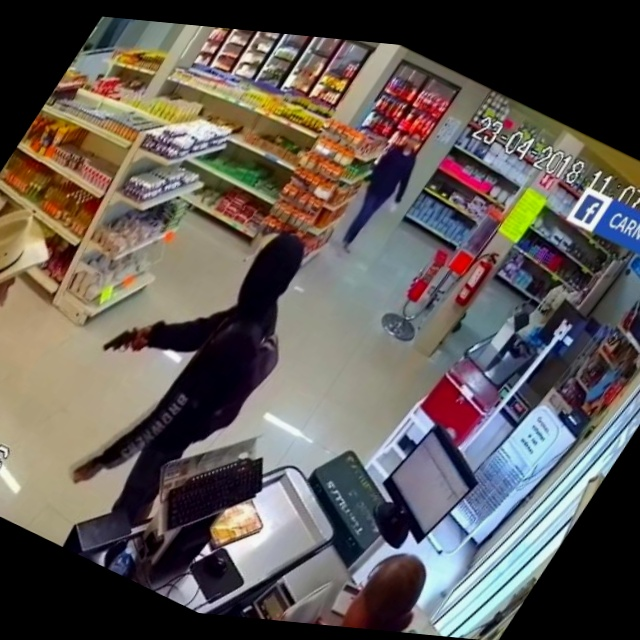gun: (82, 299, 156, 385)
